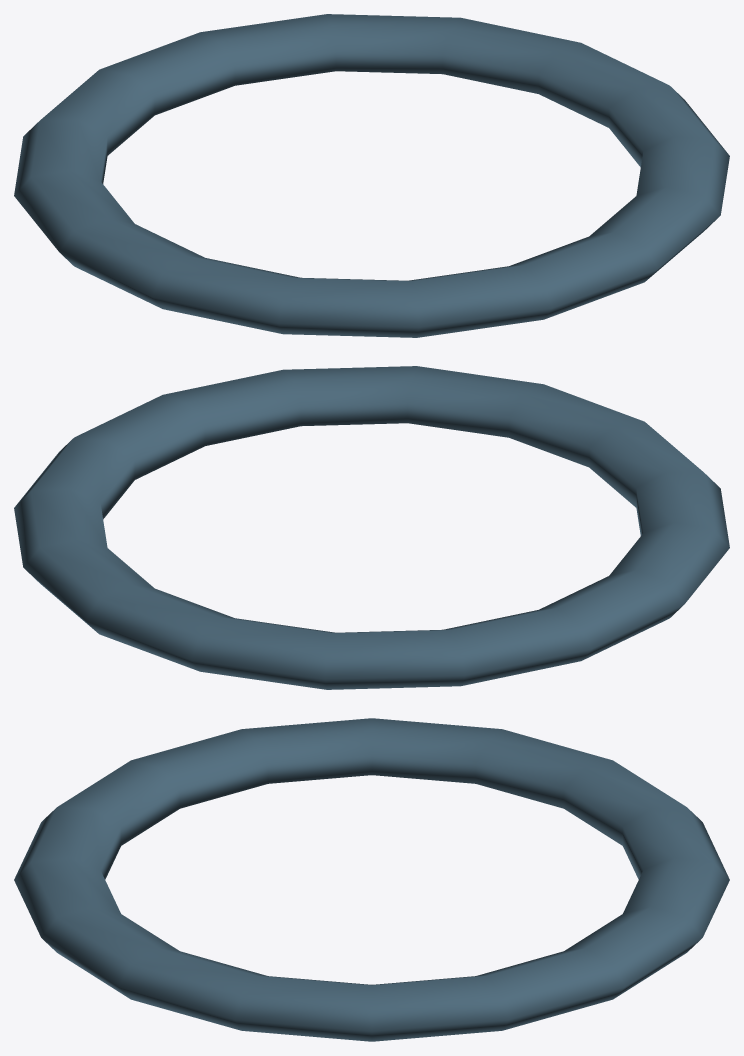
The model's file is scarf_accessory.glb.
3 renders of one model, top to bottom at view 1: azimuth 30°, elevation 25°; view 2: azimuth 150°, elevation 25°; view 3: azimuth 270°, elevation 25°, orthographic.
Visible parts, largest first — view 1: appearance_accessory; view 2: appearance_accessory; view 3: appearance_accessory.
Part boxes in pixels (x1,y1,x2,y2): appearance_accessory: [14, 14, 729, 337]; appearance_accessory: [14, 366, 729, 689]; appearance_accessory: [14, 718, 729, 1041].
Size of the model in its own units: 0.55 by 0.0375 by 0.55.
